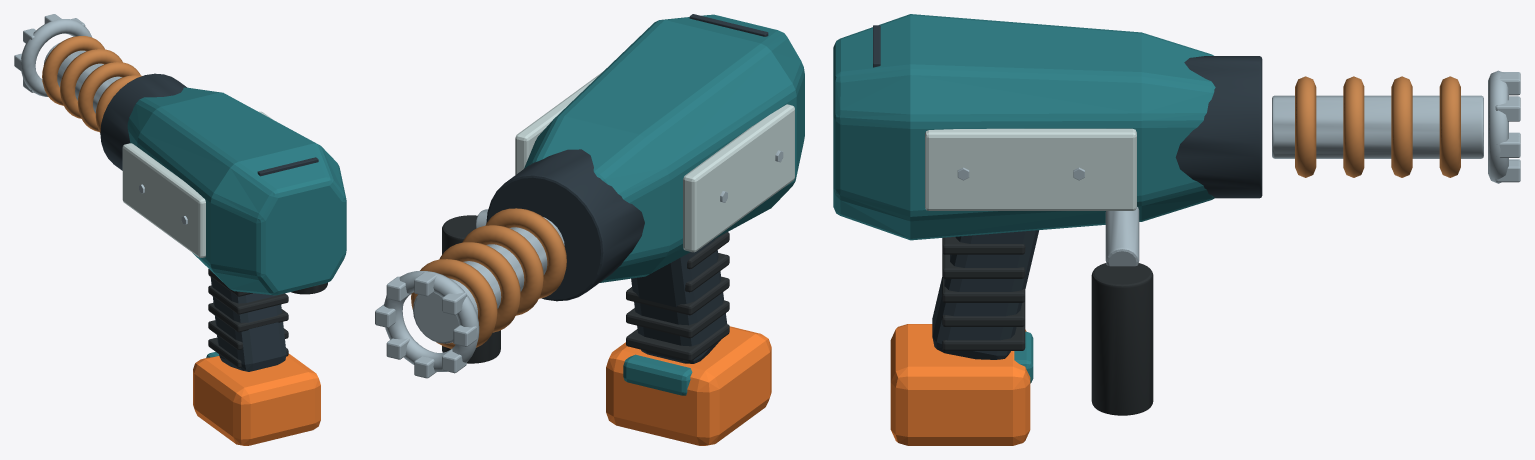
File: sample_drill.glb
3 views of the same model, side by side, from view 1: azimuth 30°, elevation 25°; view 2: azimuth 150°, elevation 25°; view 3: azimuth 270°, elevation 25° (orthographic). The views are drawn at different scales.
Visible parts, largest first — view 1: sample_drill_mesh, Sample_spindle_mesh; view 2: sample_drill_mesh, Sample_spindle_mesh; view 3: sample_drill_mesh, Sample_spindle_mesh.
Part boxes in pixels (<box>): sample_drill_mesh: <box>100,73,346,445</box>; Sample_spindle_mesh: <box>14,14,141,132</box>; sample_drill_mesh: <box>442,14,804,445</box>; Sample_spindle_mesh: <box>375,208,566,378</box>; sample_drill_mesh: <box>833,14,1262,445</box>; Sample_spindle_mesh: <box>1272,70,1520,183</box>.
Bounding box in the file's own units: 0.3237 × 0.44 × 0.713.
